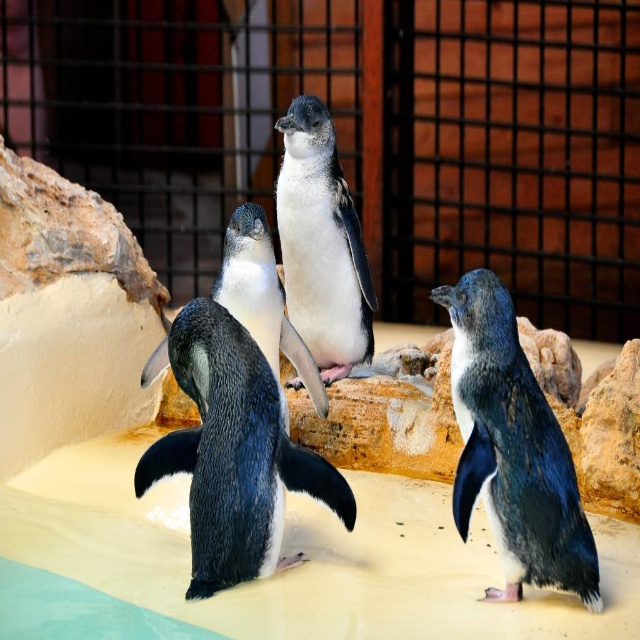Penguin: (121, 307, 355, 599), (432, 259, 604, 615), (135, 195, 334, 432), (272, 92, 380, 391)
